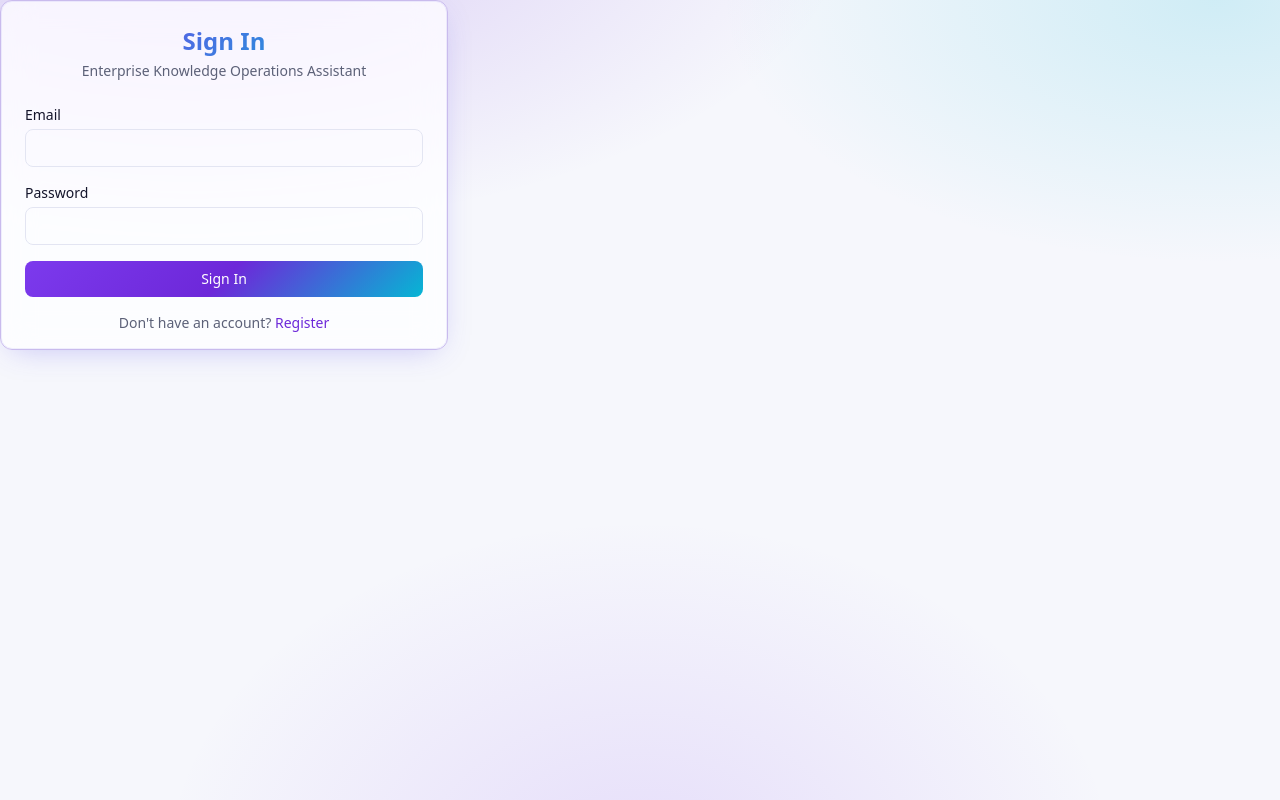
Test case: LoginForm › shows validation errors for empty submit
The image size is (1280, 800).
Click the button "Sign In" at (224,279), box x1=25 y1=261 x2=423 y2=297
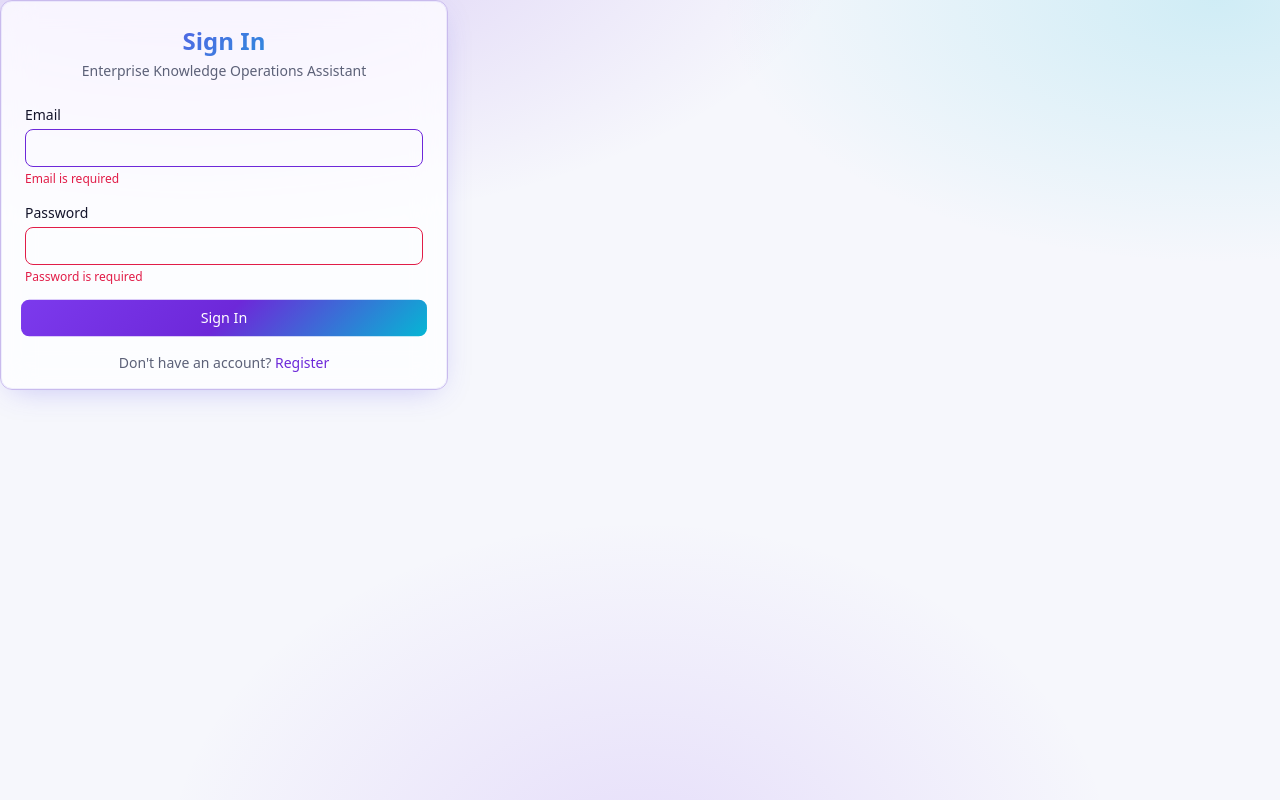
Check: the text "Email is required" is shown, box x1=25 y1=170 x2=119 y2=187
Check: the text "Password is required" is shown, box x1=25 y1=268 x2=143 y2=285
